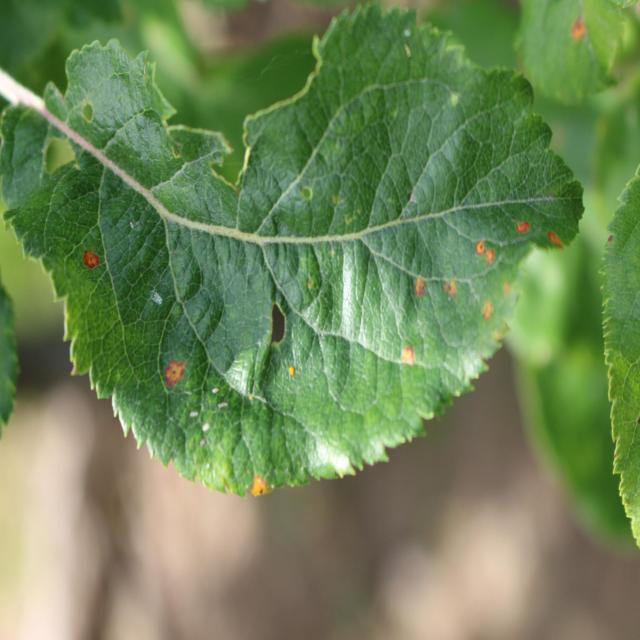Rust: (161, 346, 189, 399), (543, 223, 571, 269), (560, 15, 590, 56), (511, 193, 533, 244), (477, 296, 502, 340), (408, 261, 429, 308), (78, 241, 102, 282), (247, 466, 268, 512), (395, 341, 421, 377), (441, 264, 458, 314), (473, 219, 486, 269), (487, 238, 494, 282)
